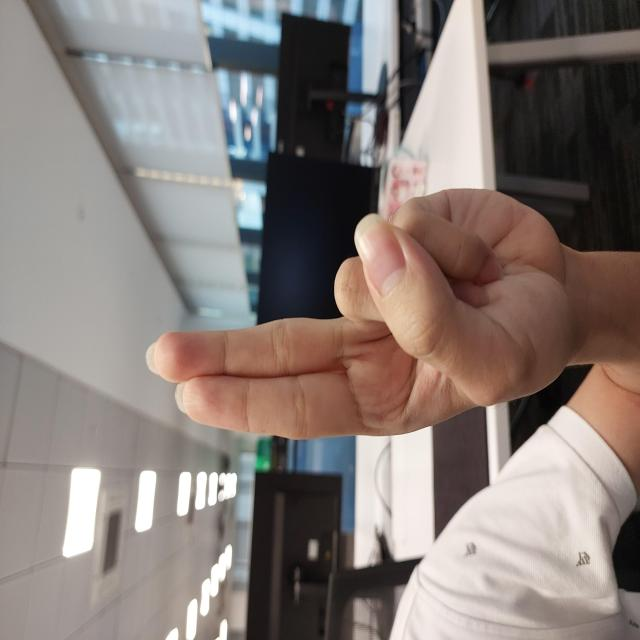U: (198, 144, 454, 573)
